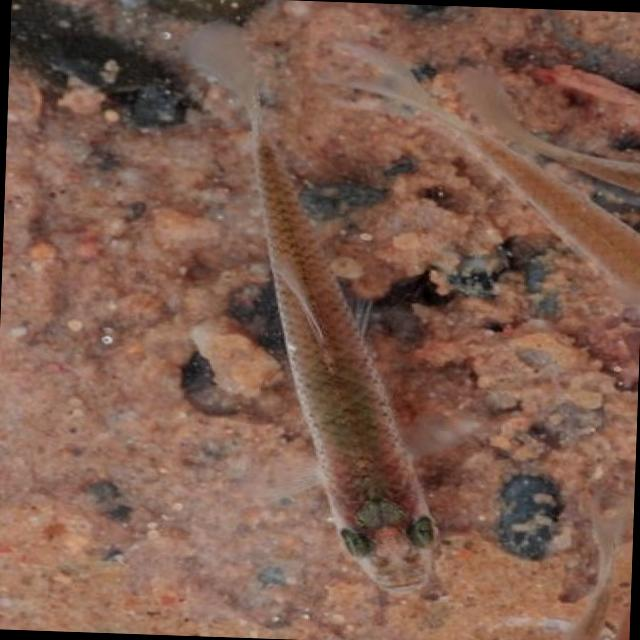Cakil Baligi: (152, 18, 462, 595)
